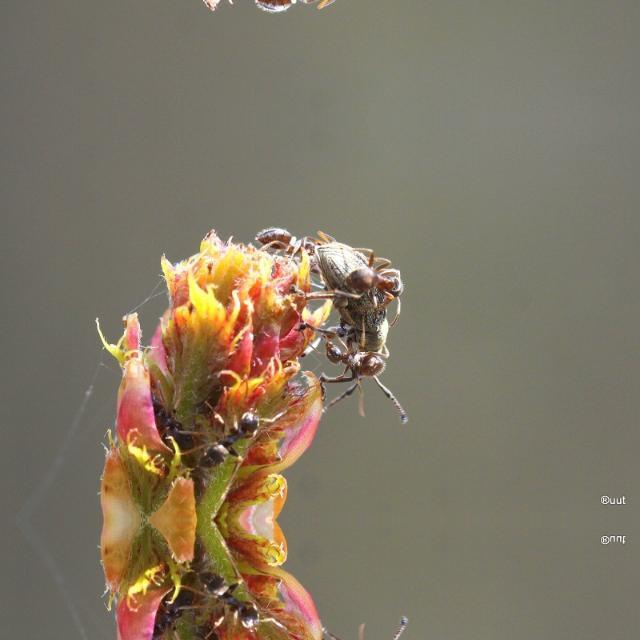Lasius: (329, 325, 397, 391), (252, 218, 326, 268), (346, 264, 410, 310), (250, 0, 326, 22)
